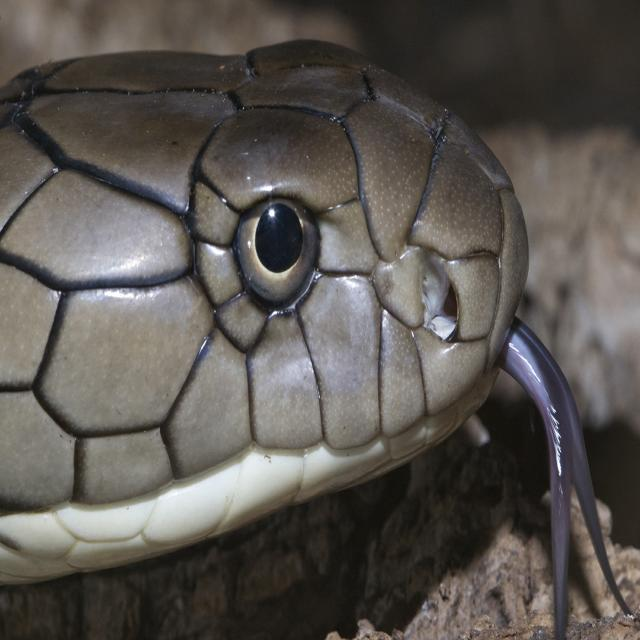Snake: (0, 32, 639, 639)
